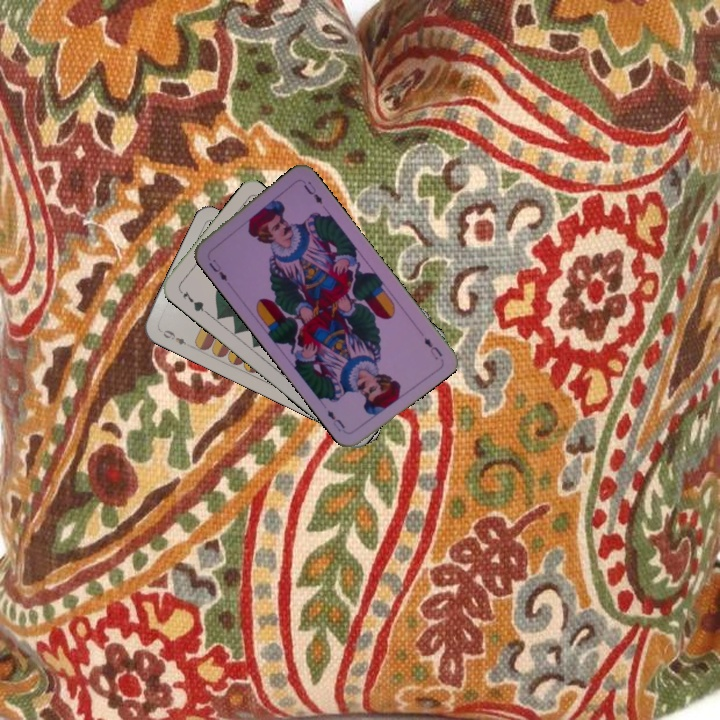E9: (156, 326, 189, 347)
EU: (205, 255, 232, 287), (420, 333, 445, 363)
G7: (179, 287, 209, 316)
